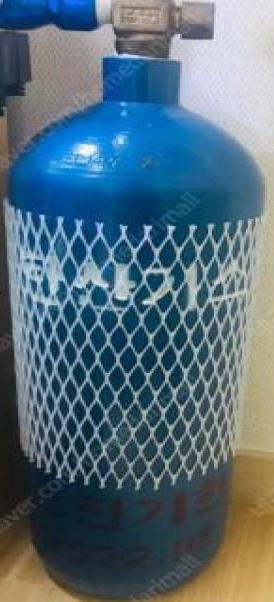cylinder: (1, 0, 274, 602)
